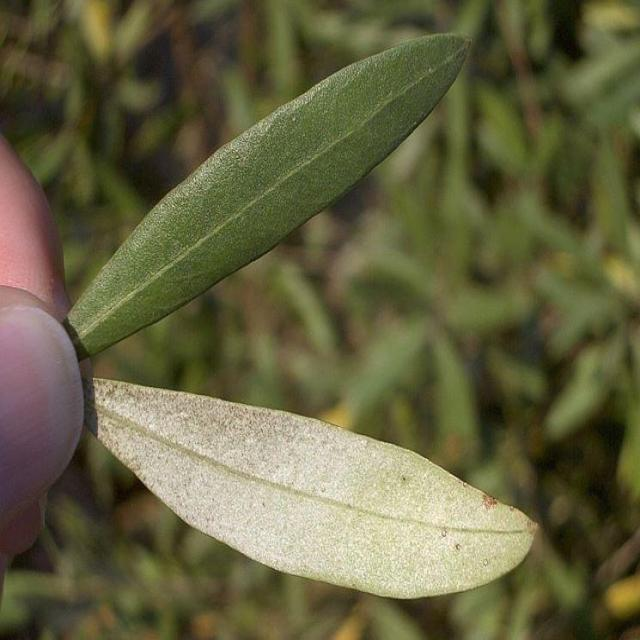Healthy: (65, 34, 472, 358), (92, 378, 537, 596)
